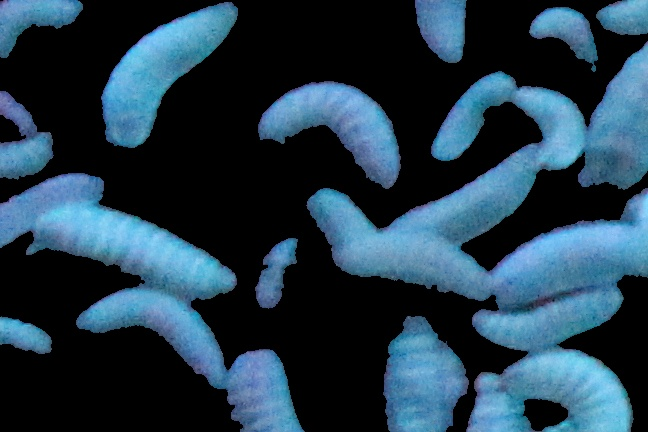larvae: (97, 1, 240, 149), (34, 197, 236, 300), (72, 291, 236, 390), (255, 81, 406, 187), (387, 149, 544, 242), (491, 219, 648, 302), (500, 349, 632, 432), (470, 280, 624, 349), (579, 38, 648, 188), (345, 228, 490, 299), (379, 316, 461, 432), (424, 71, 515, 164), (1, 172, 106, 250), (509, 80, 583, 172), (225, 349, 302, 432), (295, 185, 374, 246), (1, 1, 85, 58), (529, 1, 598, 65), (469, 371, 527, 432), (414, 1, 466, 63), (1, 131, 54, 177), (1, 315, 53, 353), (594, 1, 648, 35)
